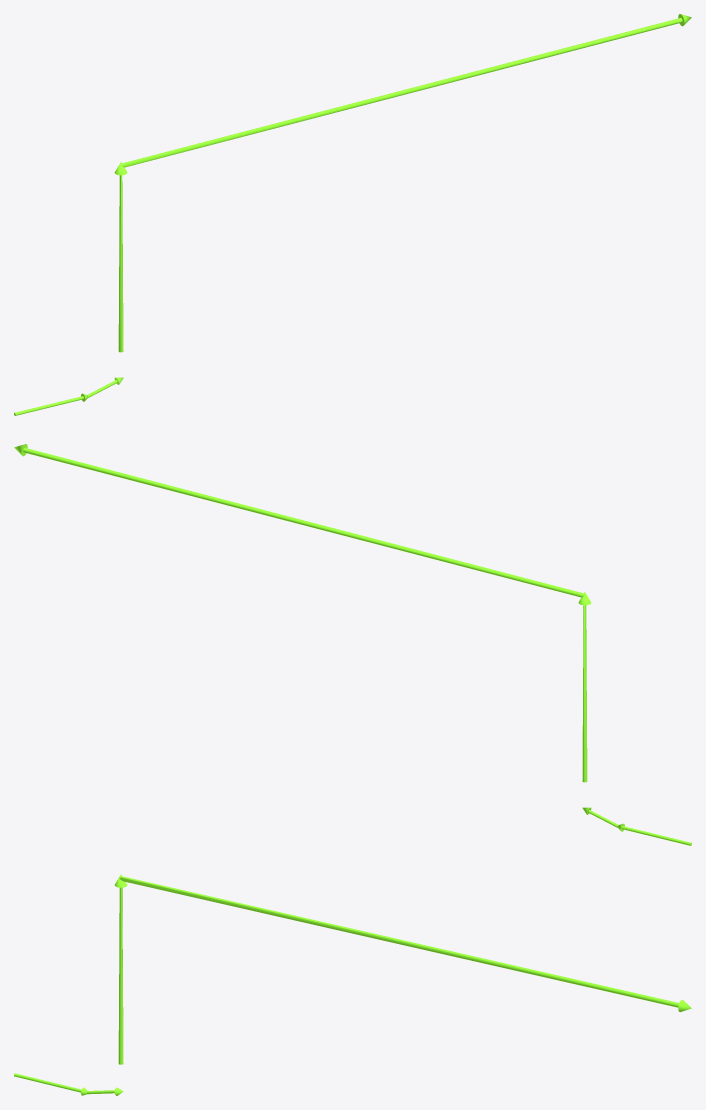
Rendered from oil_mist_lubrication_system_flow.glb.
3 renders of one model, top to bottom at view 1: azimuth 30°, elevation 25°; view 2: azimuth 150°, elevation 25°; view 3: azimuth 330°, elevation 25°, orthographic.
Parts seen in each view (by area): view 1: mist_header; view 2: mist_header; view 3: mist_header, compressed_air.
Boxes of the visible parts, x1,y1,x2,y2 form: mist_header: (114, 14, 691, 352); mist_header: (14, 444, 591, 782); mist_header: (114, 874, 691, 1064); compressed_air: (14, 1073, 123, 1095).
Size of the model in its own units: 3.82 by 1.3 by 0.0624.
